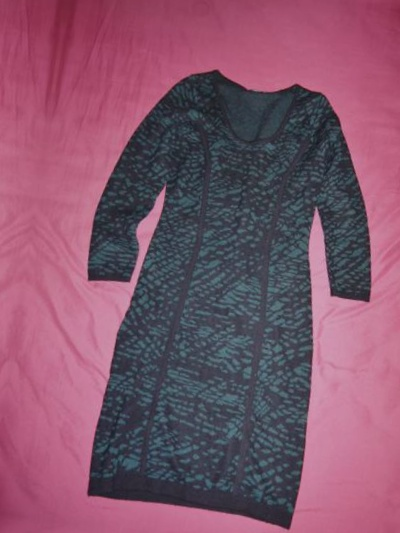Dress: (29, 41, 400, 533), (0, 0, 23, 487)
